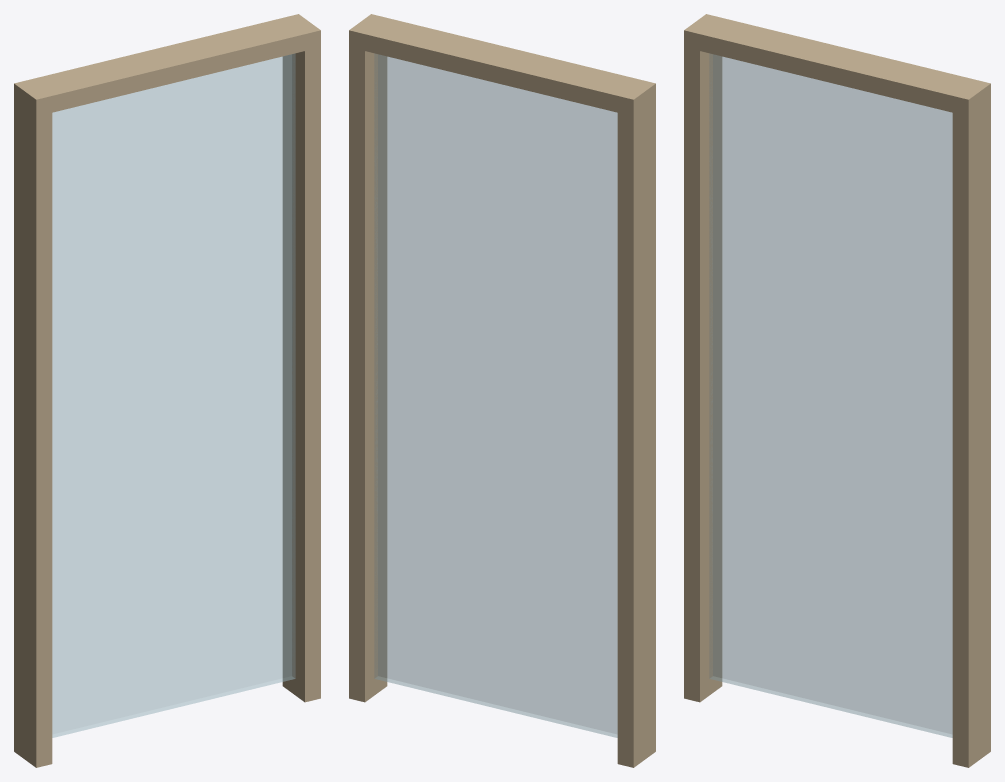
3 renders of one model, left to right at view 1: azimuth 30°, elevation 25°; view 2: azimuth 150°, elevation 25°; view 3: azimuth 330°, elevation 25°, orthographic.
Visible parts, largest first — view 1: glass, frame (×3); view 2: glass, frame (×3); view 3: glass, frame (×3).
Boxes of the visible parts, x1,y1,x2,y2 form: glass: (52, 53, 295, 737); frame (×3): (14, 14, 320, 767); glass: (374, 53, 617, 737); frame (×3): (349, 14, 655, 767); glass: (709, 53, 952, 737); frame (×3): (684, 14, 990, 767).
Bounding box in the file's own units: 0.885 × 1.99 × 0.12.
